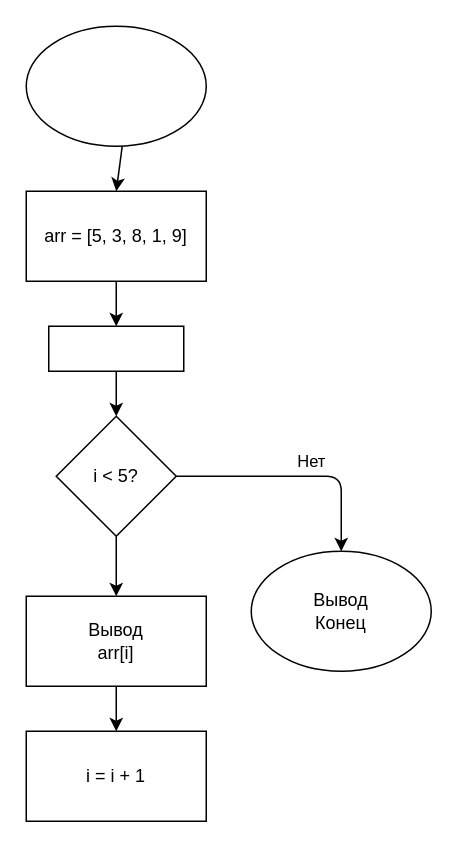
Image size: 458x848. Some labels were removed from this diagram. The centre of each missing label's shape, as x and y in pixels:
"i = 0" belongs at point (115, 348).
"Начало" belongs at point (115, 85).
